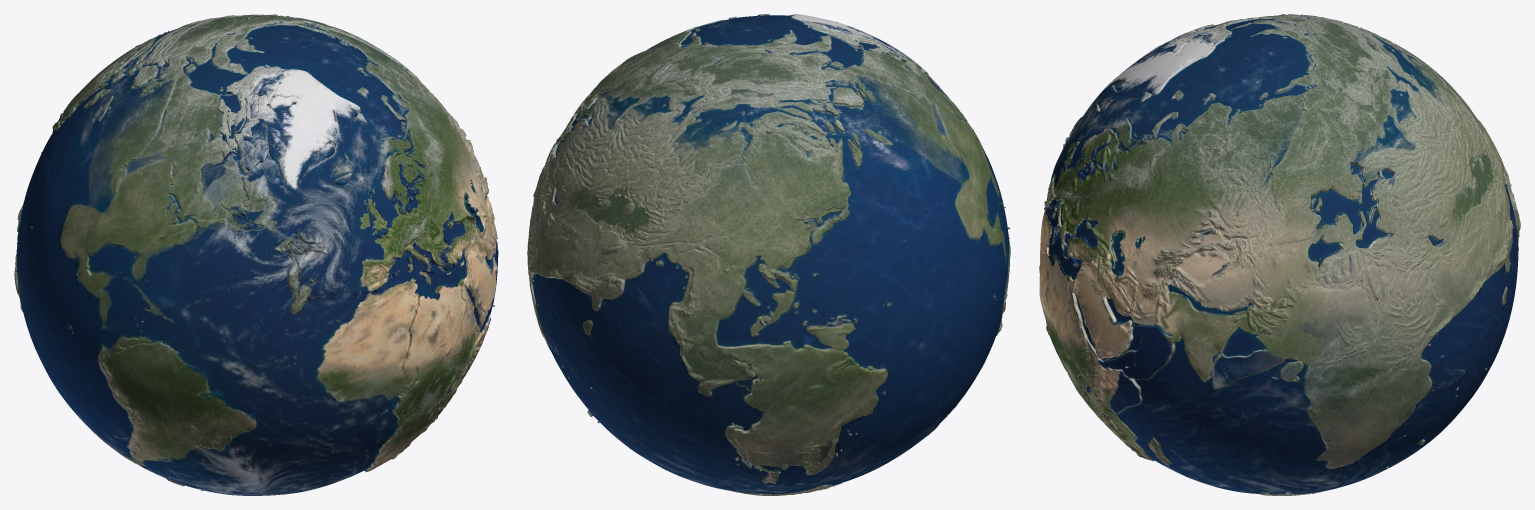
File: contact.glb
The picture shows the model from 3 angles, left to right: view 1: azimuth 30°, elevation 25°; view 2: azimuth 150°, elevation 25°; view 3: azimuth 270°, elevation 25°; orthographic projection.
Size of the model in its own units: 1.9 by 1.9 by 1.9.
1 material, 1 textured.
